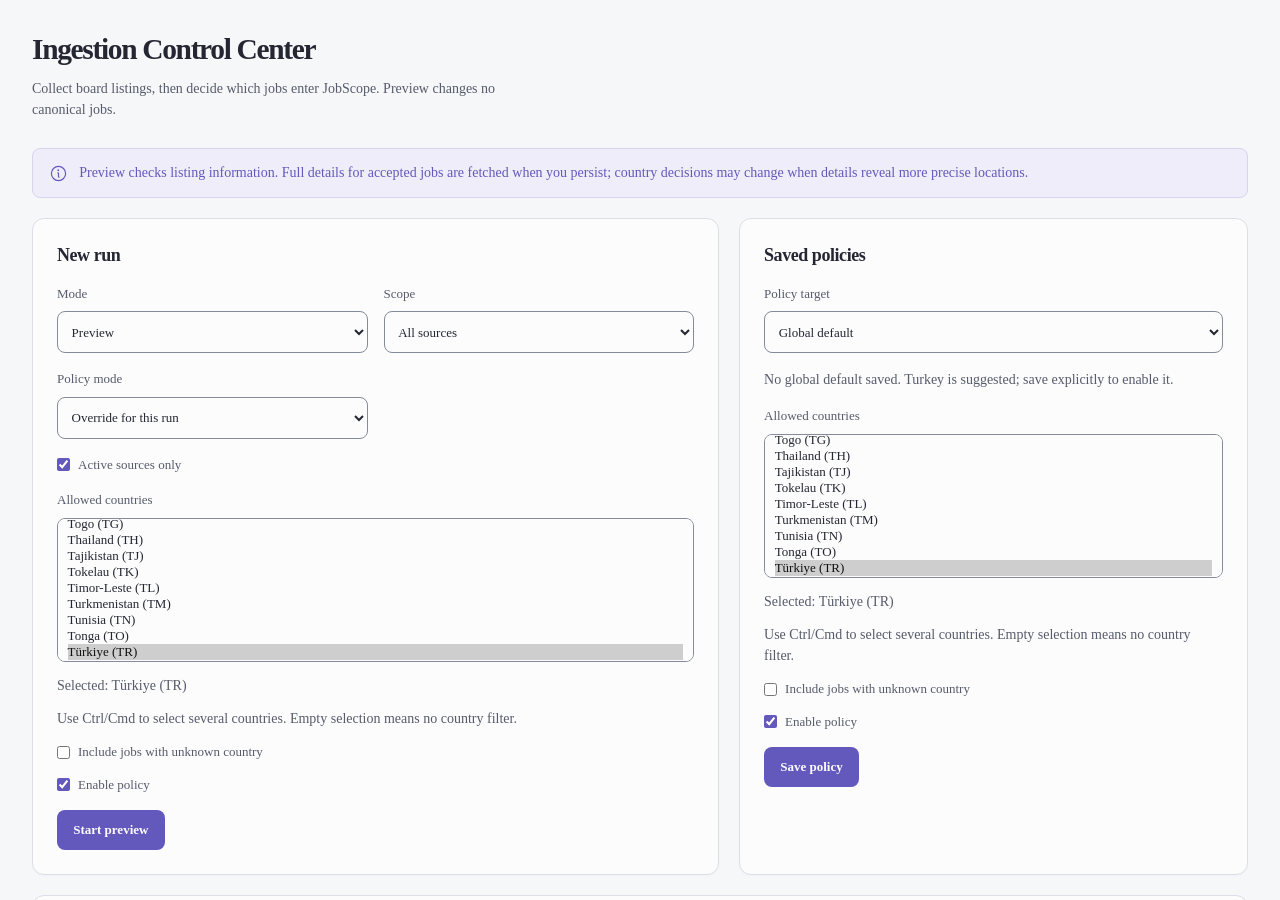
Test: Ingestion control center › keeps draft and shows safe errors on failure without success notice
(page scrolled)
Check: the text "No global default saved" is shown, box 764,372 -> 1174,387
Click the button "Start preview".
click(111, 830)  # box 57,810 -> 165,850
(page scrolled)
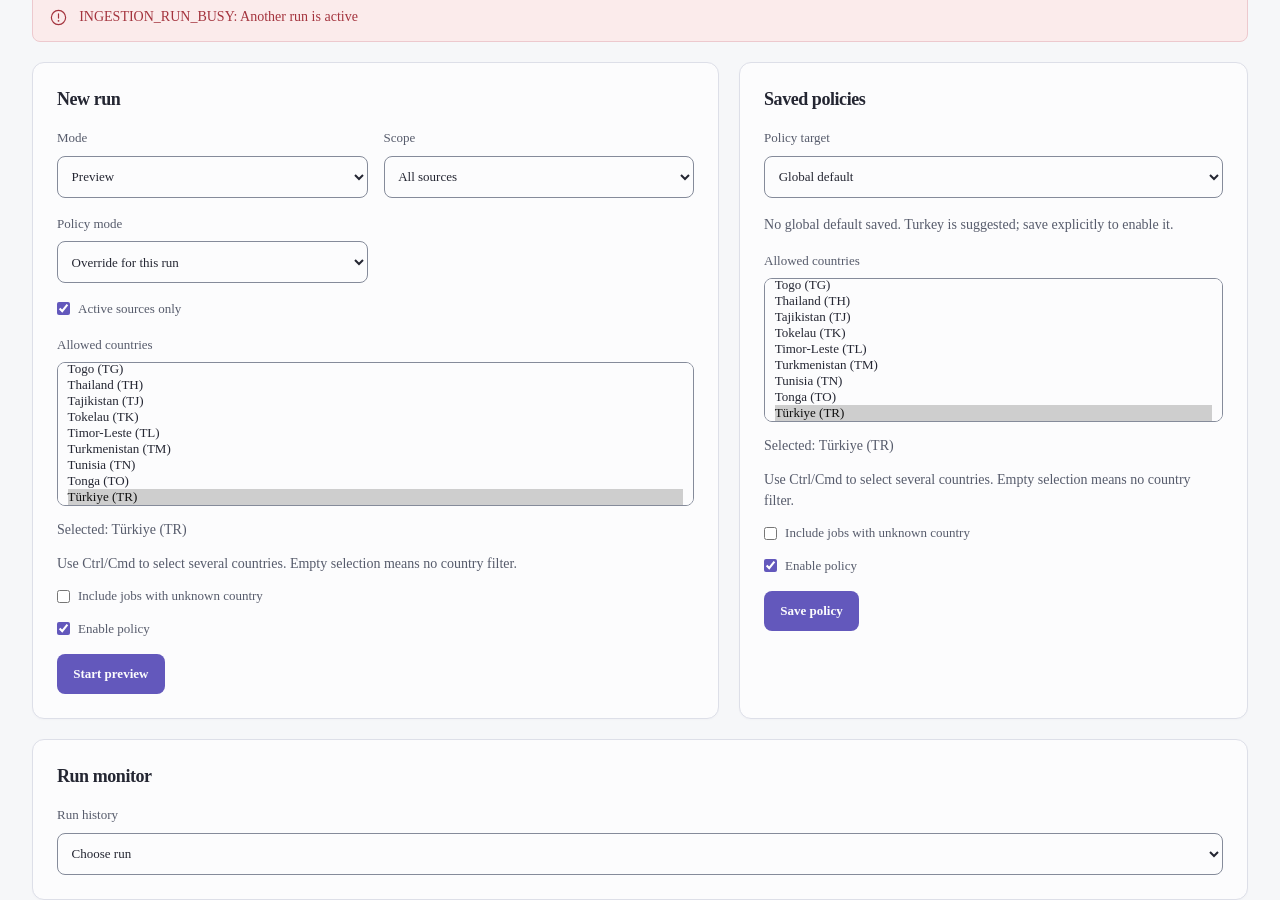
Check: the button "Start preview" is enabled, box 57,654 -> 165,694
Check: the text "INGESTION_RUN_BUSY: Another run is active" is shown, box 79,6 -> 358,27
